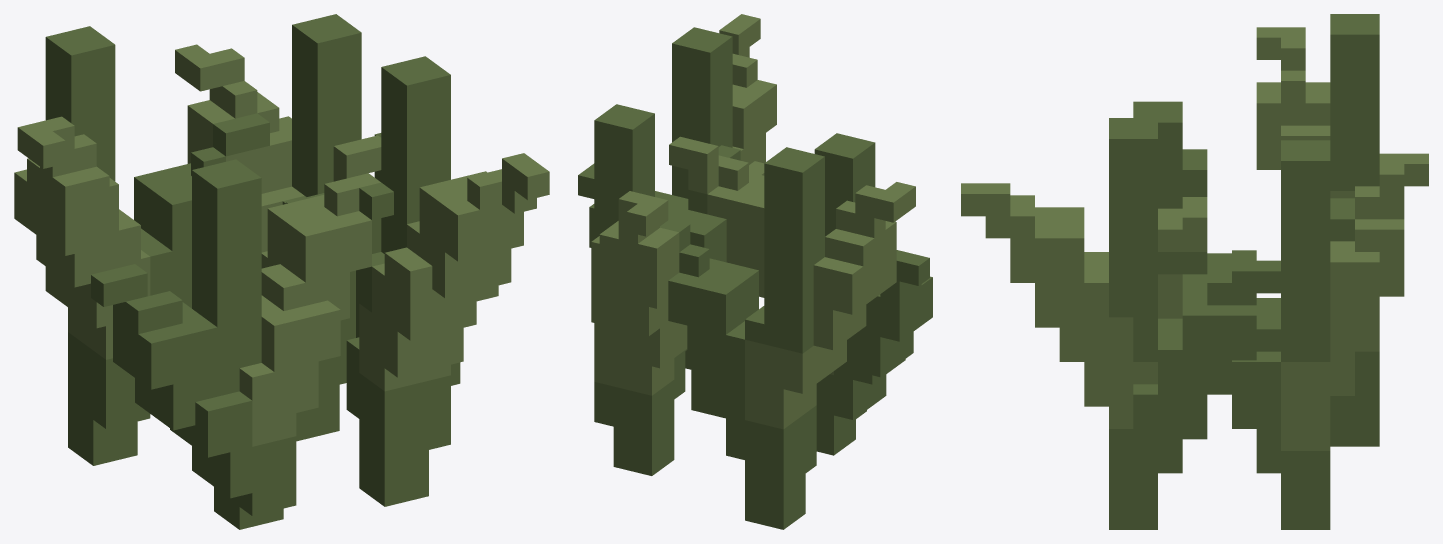
File: reeds_1_spring.glb
The picture shows the model from 3 angles, left to right: view 1: azimuth 30°, elevation 25°; view 2: azimuth 150°, elevation 25°; view 3: azimuth 270°, elevation 25°; orthographic projection. The views are drawn at different scales.
Visible parts, largest first — view 1: VoxelVisual; view 2: VoxelVisual; view 3: VoxelVisual.
Part boxes in pixels (bbox=[...]): VoxelVisual: bbox=[14, 14, 549, 529]; VoxelVisual: bbox=[578, 14, 932, 529]; VoxelVisual: bbox=[961, 14, 1428, 529].
Size of what is drawn, in the model's own units: 1.06 by 1.12 by 1.19.
